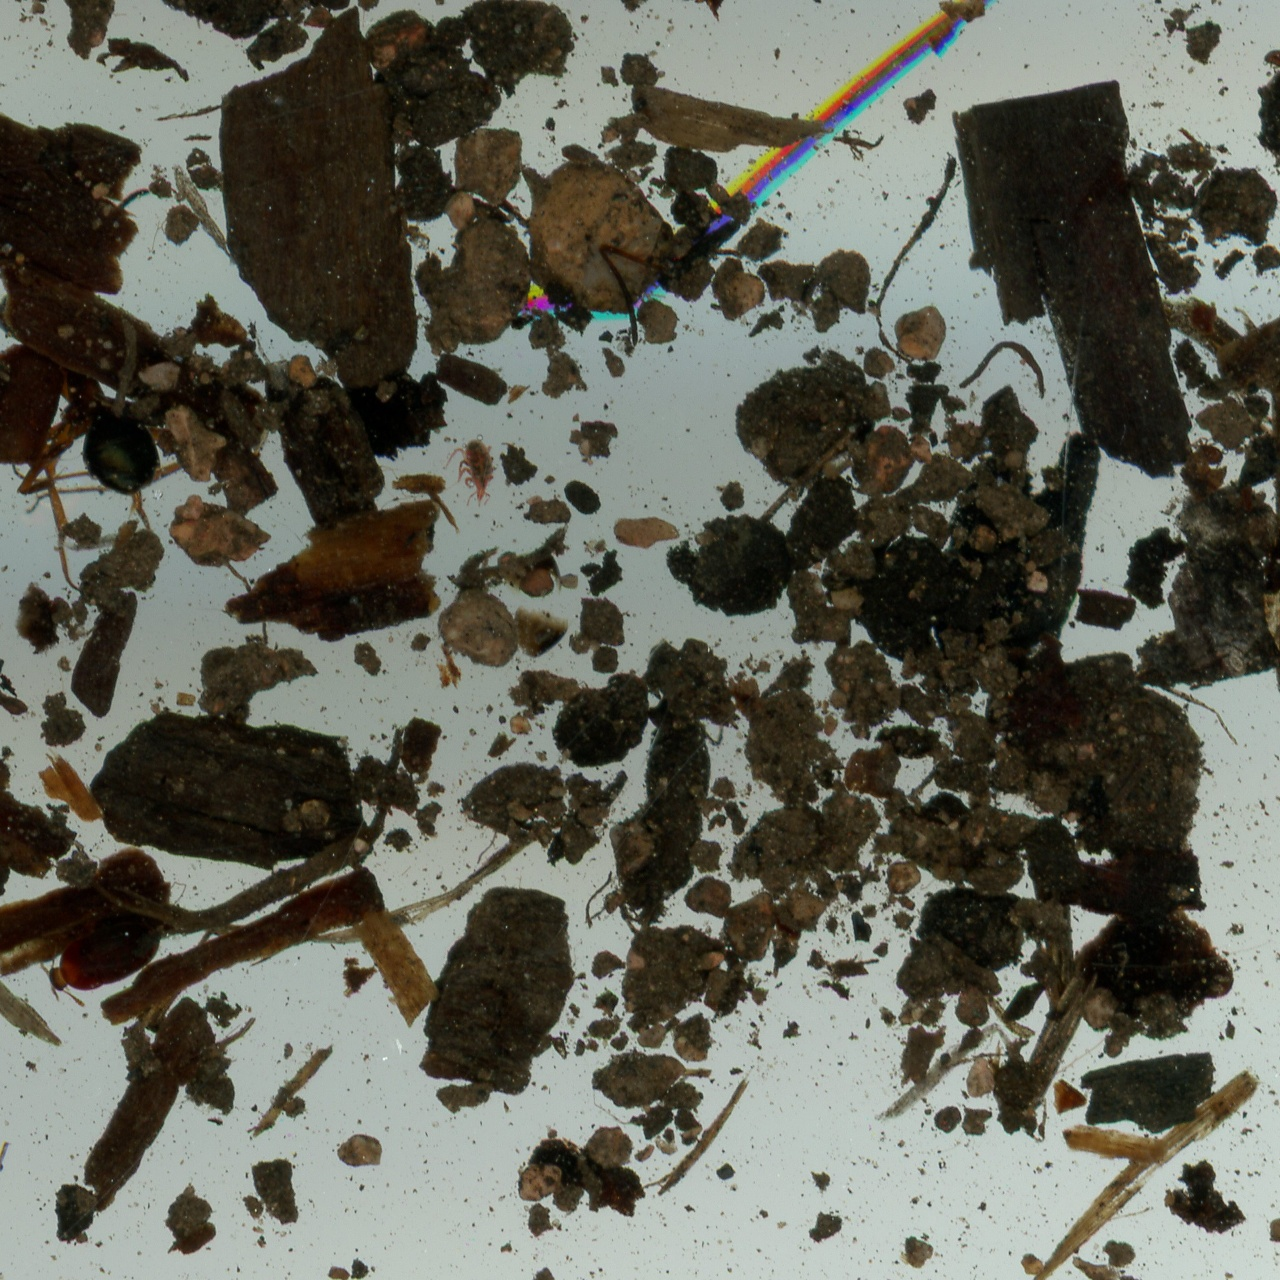arthropod: (0, 154, 340, 634), (597, 198, 748, 353), (26, 878, 176, 1030), (441, 434, 499, 510), (1191, 431, 1232, 470), (1259, 45, 1280, 82), (1272, 947, 1280, 994)
